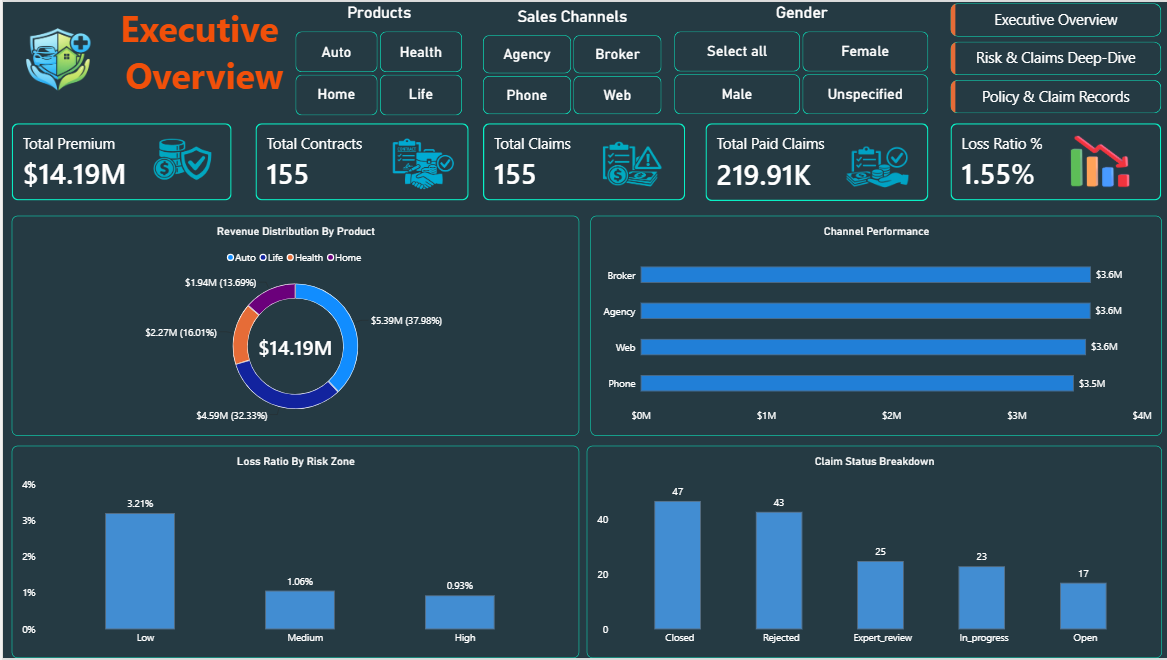

This screenshot's page, from the dashboard's own definition file:
{"tool":"powerbi","page":{"name":"Executive Overview","canvas":[1920,1080],"ordinal":0},"visuals":[{"type":"textbox","box":[181.1,2.1,300.5,183.2],"z":0},{"type":"cardVisual","fields":{"Data":["_Measures.Total Contracts"]},"box":[415.8,199.7,352,127.6],"z":1000},{"type":"cardVisual","fields":{"Data":["_Measures.Total Paid Claims"]},"box":[1156.8,199.7,367,128],"z":2000},{"type":"cardVisual","fields":{"Data":["_Measures.Loss Ratio %"]},"box":[1560.2,199.7,347.9,127.6],"z":3000},{"type":"cardVisual","fields":{"Data":["_Measures.Total Premium"]},"box":[14.4,199.7,362.3,127.6],"z":4000},{"type":"cardVisual","fields":{"Data":["_Measures.Total Claims"]},"box":[790.4,199.7,333.4,127.6],"z":5000},{"type":"donutChart","title":"Revenue Distribution By Product","fields":{"Category":["public clean_contracts.product"],"Y":["_Measures.Total Premium"]},"box":[14.4,352,934.6,362.7],"z":6000},{"type":"clusteredBarChart","title":"Channel Performance","fields":{"Category":["public clean_contracts.channel"],"Y":["_Measures.Total Premium"]},"box":[967.4,352,941,362.7],"z":7000},{"type":"clusteredColumnChart","title":"Loss Ratio By Risk Zone","fields":{"Category":["public clean_contracts.risk_zone"],"Y":["_Measures.Loss Ratio %"]},"box":[14.4,730.7,934.6,349.9],"z":8000},{"type":"columnChart","title":"Claim Status Breakdown","fields":{"Category":["public clean_claims.status"],"Y":["_Measures.Total Claims"]},"box":[961.2,730.7,946.8,349.9],"z":9000},{"type":"advancedSlicerVisual","title":"Products","fields":{"Values":["public clean_contracts.product"]},"box":[481.6,2.1,275.8,185.2],"z":10000},{"type":"advancedSlicerVisual","title":"Sales Channels","fields":{"Values":["public clean_contracts.channel"]},"box":[790.4,8.2,294.3,177],"z":11000},{"type":"advancedSlicerVisual","title":"Gender","fields":{"Values":["public clean_contracts.gender"]},"box":[1105.3,2.1,419.9,183.2],"z":12000},{"type":"image","box":[0,4.1,181.1,185.2],"z":13000},{"type":"image","box":[216.1,205.8,160.5,121.4],"z":14000},{"type":"image","box":[953,205.8,170.8,137.9],"z":15000},{"type":"image","box":[1354.4,187.3,170.8,177],"z":16000},{"type":"image","box":[1704.3,209.9,203.8,107],"z":17000},{"type":"image","box":[615.4,199.7,152.3,137.9],"z":18000},{"type":"pageNavigator","box":[1560.2,2.1,347.9,183.2],"z":18001}]}

Visuals, with their boxes in screenshot pixels (x1, y1, x2, y2), scaled from the page's 1920x1080 canvas onto the 1167x660 screenshot:
textbox: locate(110, 1, 293, 113)
cardVisual - _Measures.Total Contracts: locate(253, 122, 467, 200)
cardVisual - _Measures.Total Paid Claims: locate(703, 122, 926, 200)
cardVisual - _Measures.Loss Ratio %: locate(948, 122, 1160, 200)
cardVisual - _Measures.Total Premium: locate(9, 122, 229, 200)
cardVisual - _Measures.Total Claims: locate(480, 122, 683, 200)
"Revenue Distribution By Product" donutChart: locate(9, 215, 577, 437)
"Channel Performance" clusteredBarChart: locate(588, 215, 1160, 437)
"Loss Ratio By Risk Zone" clusteredColumnChart: locate(9, 447, 577, 659)
"Claim Status Breakdown" columnChart: locate(584, 447, 1160, 659)
"Products" advancedSlicerVisual: locate(293, 1, 460, 114)
"Sales Channels" advancedSlicerVisual: locate(480, 5, 659, 113)
"Gender" advancedSlicerVisual: locate(672, 1, 927, 113)
image: locate(0, 3, 110, 116)
image: locate(131, 126, 229, 200)
image: locate(579, 126, 683, 210)
image: locate(823, 114, 927, 223)
image: locate(1036, 128, 1160, 194)
image: locate(374, 122, 467, 206)
pageNavigator: locate(948, 1, 1160, 113)
